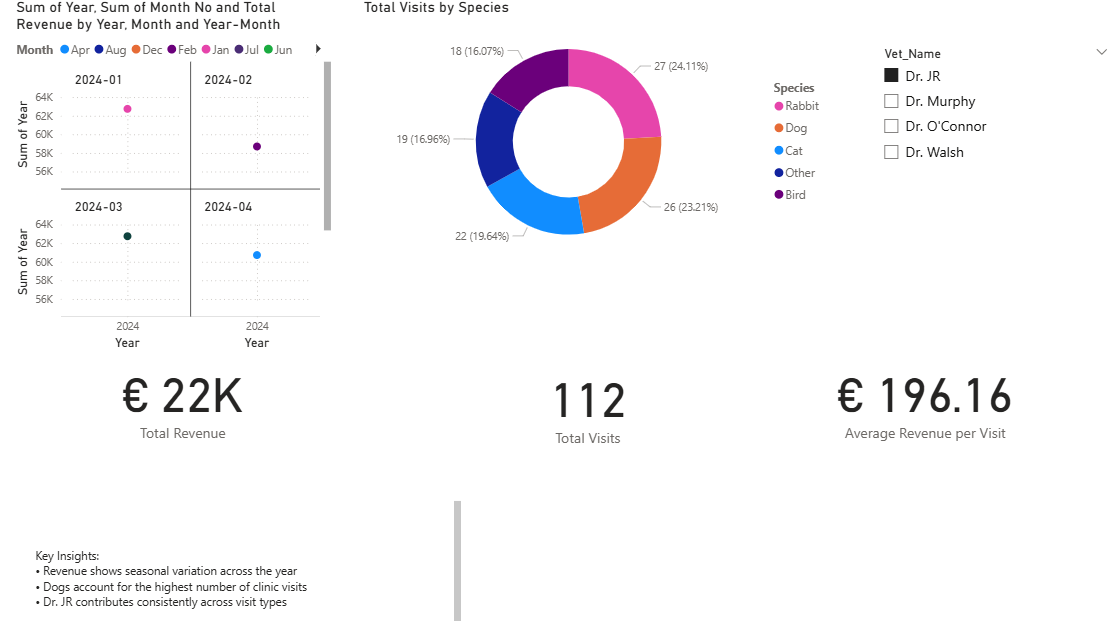

This screenshot's page, from the dashboard's own definition file:
{"tool":"powerbi","page":{"name":"Executive Overview ","canvas":[1280,720],"ordinal":0},"visuals":[{"type":"card","fields":{"Values":["Vet_clinic_Data.Total Revenue"]},"box":[11,0,279.9,279.9],"z":0},{"type":"card","fields":{"Values":["Vet_clinic_Data.Total Visits"]},"box":[317,1,280,280],"z":1000},{"type":"card","fields":{"Values":["Vet_clinic_Data.Average Revenue per Visit"]},"box":[730,64.5,279.9,150.9],"z":2000},{"type":"lineChart","fields":{"Category":["Date_Table.Date.Variation.Date Hierarchy.Year","Date_Table.Date.Variation.Date Hierarchy.Quarter","Date_Table.Date.Variation.Date Hierarchy.Month","Date_Table.Date.Variation.Date Hierarchy.Day"],"Series":["Date_Table.Month"],"Y":["Date_Table.Year"],"Rows":["Date_Table.Year-Month"]},"box":[36.7,280,280,280],"z":3000},{"type":"donutChart","fields":{"Category":["Vet_clinic_Data.Species"],"Y":["Vet_clinic_Data.Total Visits"]},"box":[404.3,317.1,384.3,207.1],"z":4000},{"type":"slicer","fields":{"Values":["Vet_clinic_Data.Vet_Name"]},"box":[968.6,358.6,280,150],"z":5000},{"type":"textbox","box":[37.1,570,348.6,150],"z":6000}]}

Visuals, with their boxes in screenshot pixels (x1, y1, x2, y2), scaled from the page's 1280x720 canvas onto the 1111x621 screenshot:
card - Vet_clinic_Data.Total Revenue: x1=10 y1=0 x2=252 y2=241
card - Vet_clinic_Data.Total Visits: x1=275 y1=1 x2=518 y2=242
card - Vet_clinic_Data.Average Revenue per Visit: x1=634 y1=56 x2=877 y2=186
lineChart - Date_Table.Date.Variation.Date Hierarchy.Year x Date_Table.Date.Variation.Date Hierarchy.Quarter: x1=32 y1=242 x2=275 y2=483
donutChart - Vet_clinic_Data.Species x Vet_clinic_Data.Total Visits: x1=351 y1=273 x2=684 y2=452
slicer - Vet_clinic_Data.Vet_Name: x1=841 y1=309 x2=1084 y2=439
textbox: x1=32 y1=492 x2=335 y2=620
